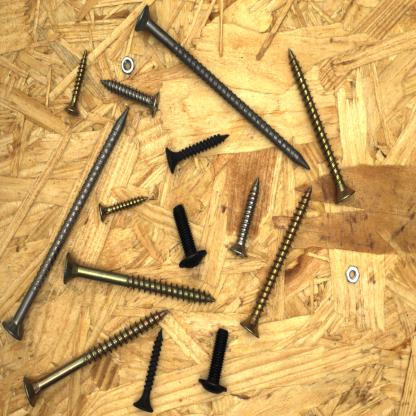screw: (0, 104, 133, 344), (132, 1, 312, 173), (20, 307, 171, 410), (237, 184, 314, 341), (286, 46, 358, 209), (62, 249, 218, 307), (129, 324, 166, 414), (226, 174, 264, 260), (161, 132, 233, 176), (98, 76, 165, 121), (170, 199, 210, 273), (196, 324, 233, 396), (63, 47, 90, 119), (96, 193, 151, 225)
